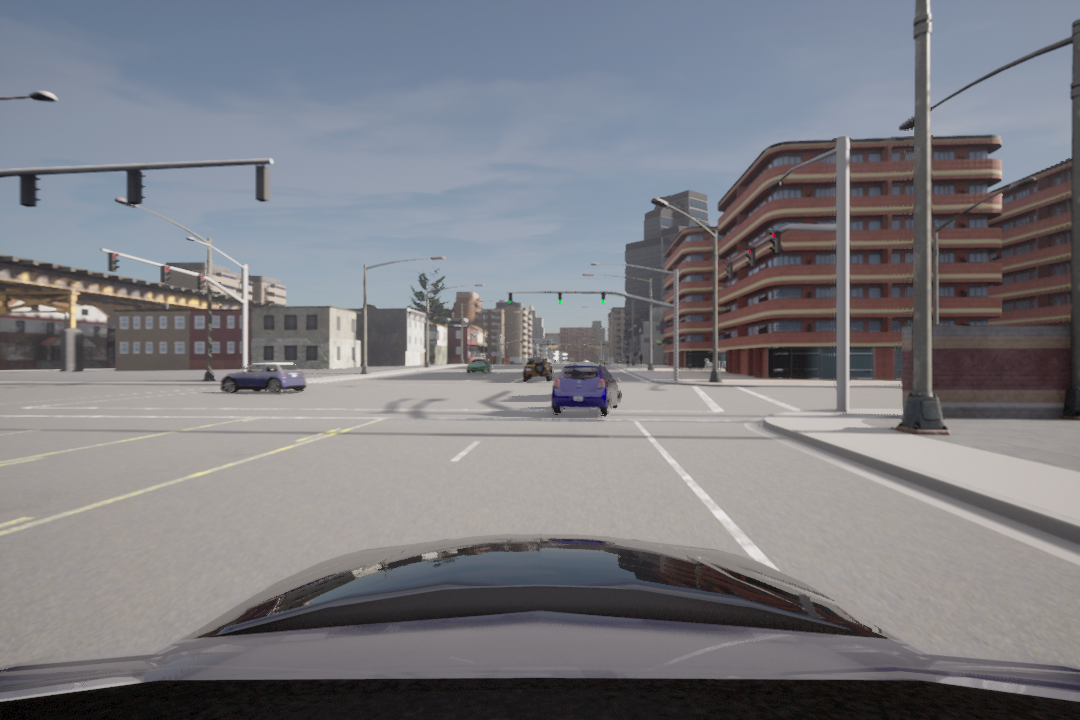TrafficLight: (767, 224, 782, 257), (157, 262, 172, 285), (720, 259, 734, 281), (744, 245, 757, 268), (195, 271, 207, 294), (108, 250, 119, 273)
